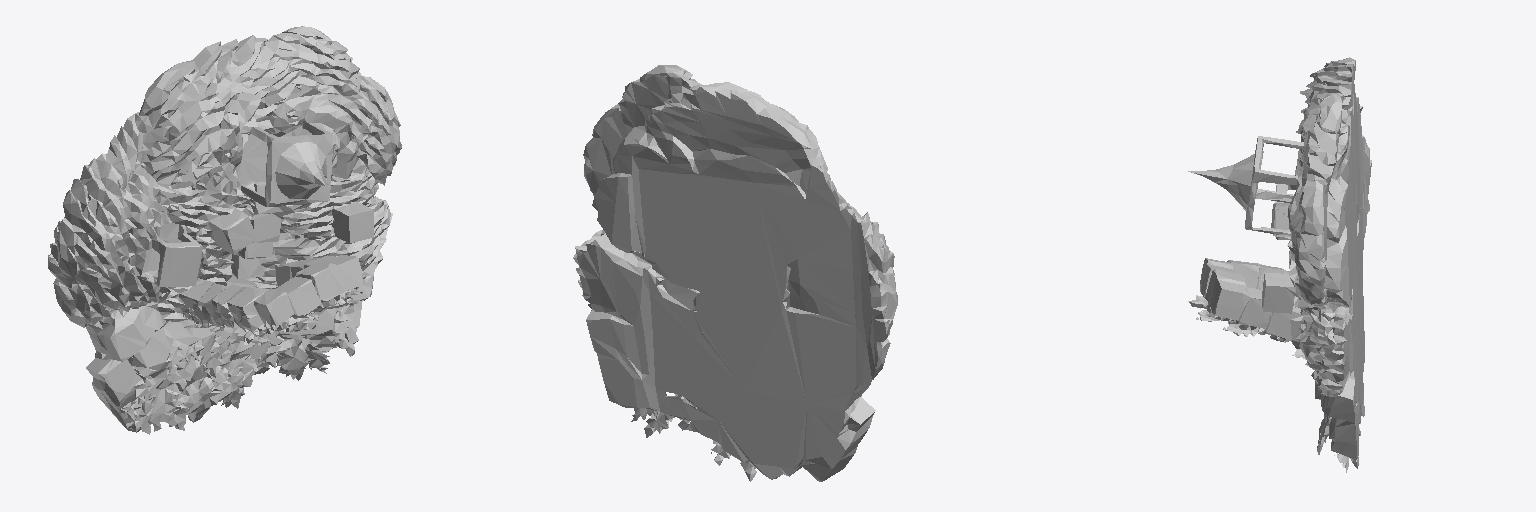
The model's file is ruinsv.obj.
3 views of the same model, side by side, from view 1: azimuth 30°, elevation 25°; view 2: azimuth 150°, elevation 25°; view 3: azimuth 270°, elevation 25° (orthographic).
Visible parts, largest first — view 1: Layer_2; view 2: Layer_2; view 3: Layer_2.
Boxes of the visible parts, x1=… form: Layer_2: x1=48, y1=26, x2=401, y2=434; Layer_2: x1=573, y1=65, x2=897, y2=481; Layer_2: x1=1188, y1=57, x2=1371, y2=472.
Size of the model in its own units: 2.39 by 2.65 by 1.16.